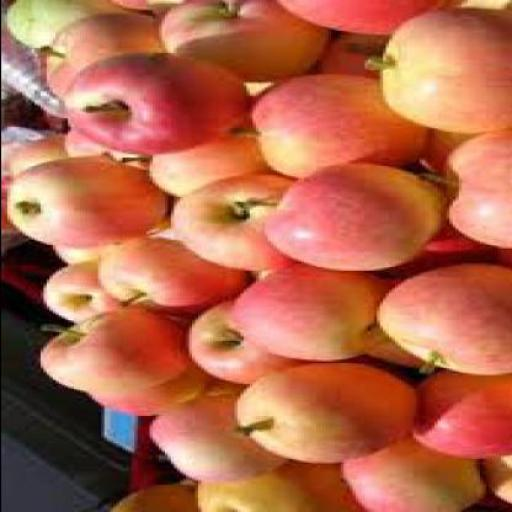biodegradable: (234, 166, 442, 275), (221, 76, 418, 182), (357, 10, 509, 138), (230, 363, 415, 464), (61, 53, 239, 156), (221, 265, 385, 364), (370, 266, 509, 378), (3, 161, 163, 249), (33, 308, 191, 394), (158, 2, 328, 80), (164, 174, 296, 273), (115, 111, 260, 199), (143, 398, 288, 486), (94, 240, 246, 316), (33, 14, 161, 104), (330, 438, 485, 511), (421, 130, 509, 250), (409, 372, 509, 459), (186, 462, 356, 510), (82, 358, 206, 416), (260, 2, 451, 37), (378, 232, 509, 280), (6, 1, 121, 48), (33, 260, 100, 324), (302, 32, 382, 80), (57, 130, 142, 172), (102, 481, 195, 511), (412, 132, 476, 174), (358, 344, 436, 378), (2, 138, 60, 178), (479, 451, 508, 507), (46, 248, 100, 268), (100, 2, 178, 12)
